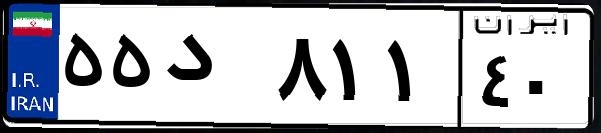0: (525, 38, 570, 115)
1: (385, 28, 445, 110), (330, 28, 385, 110)
4: (475, 38, 525, 113)
5: (57, 26, 110, 100), (110, 28, 158, 98)
8: (270, 28, 330, 110)
د: (158, 20, 270, 120)
